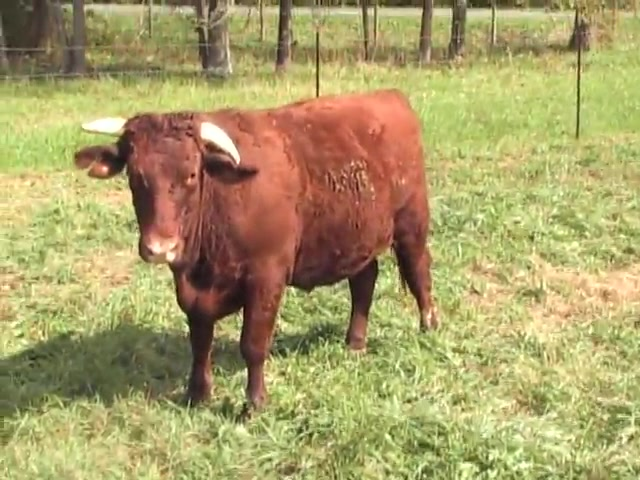cow: (73, 84, 434, 420)
